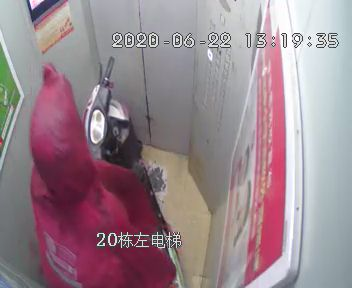Electric-bicycle: (80, 54, 187, 288)
